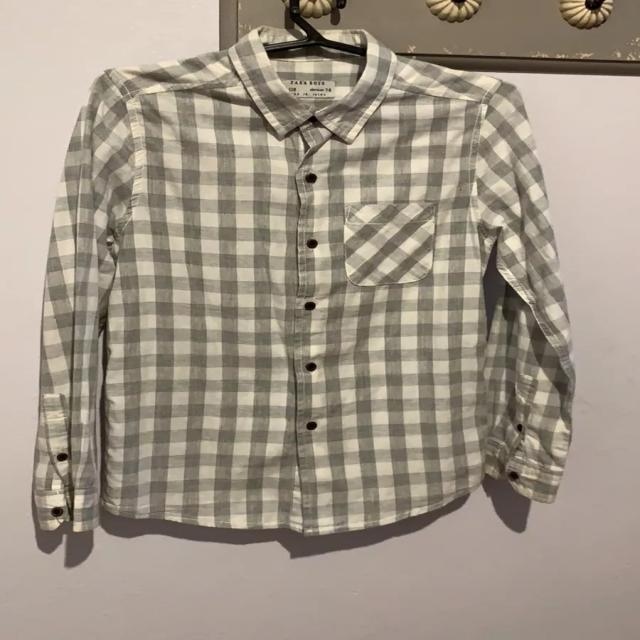long sleeve shirt: (30, 23, 576, 543)
